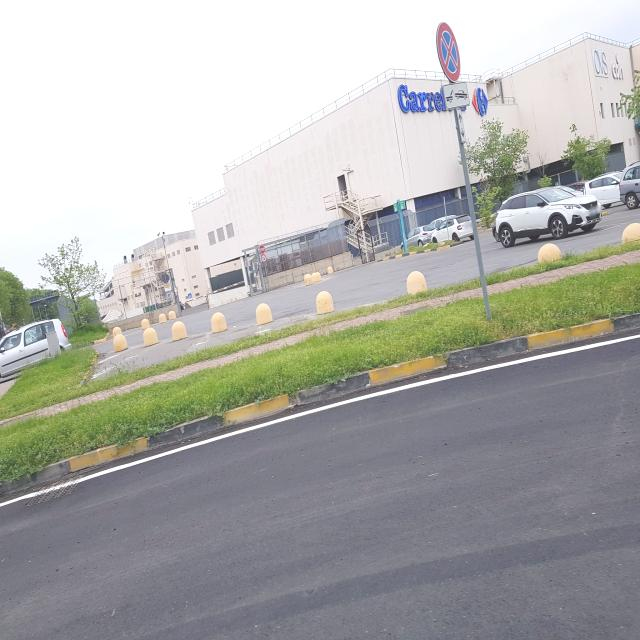car: (492, 187, 603, 248), (0, 317, 71, 386), (419, 213, 475, 244), (572, 175, 622, 208)
